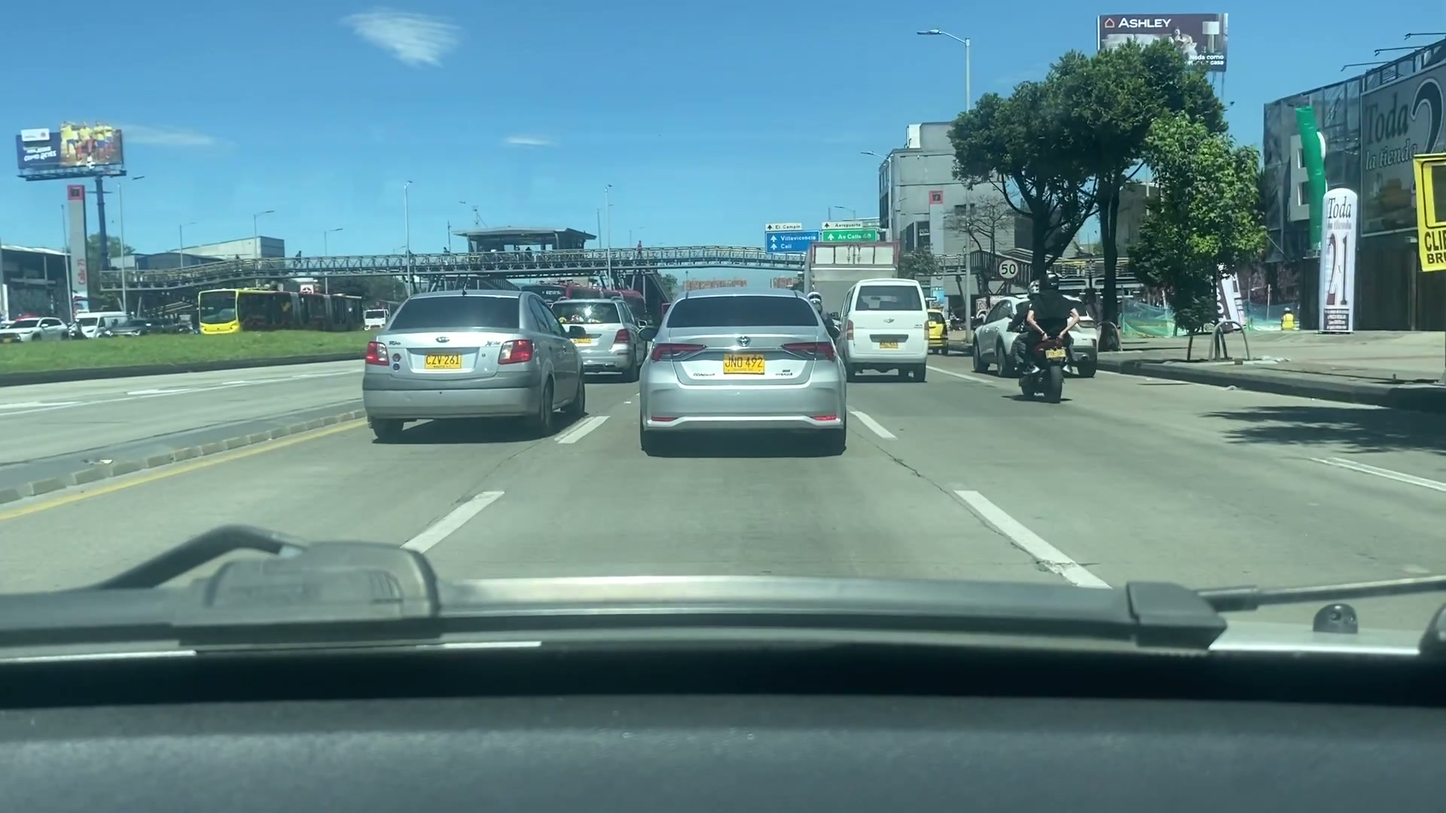car: (363, 289, 592, 440), (639, 286, 845, 452), (973, 295, 1098, 369), (841, 282, 931, 382), (550, 297, 652, 376), (925, 310, 951, 356)
motorcycle: (1006, 331, 1077, 404)
person: (1015, 271, 1081, 389)
truck: (803, 240, 903, 327)
